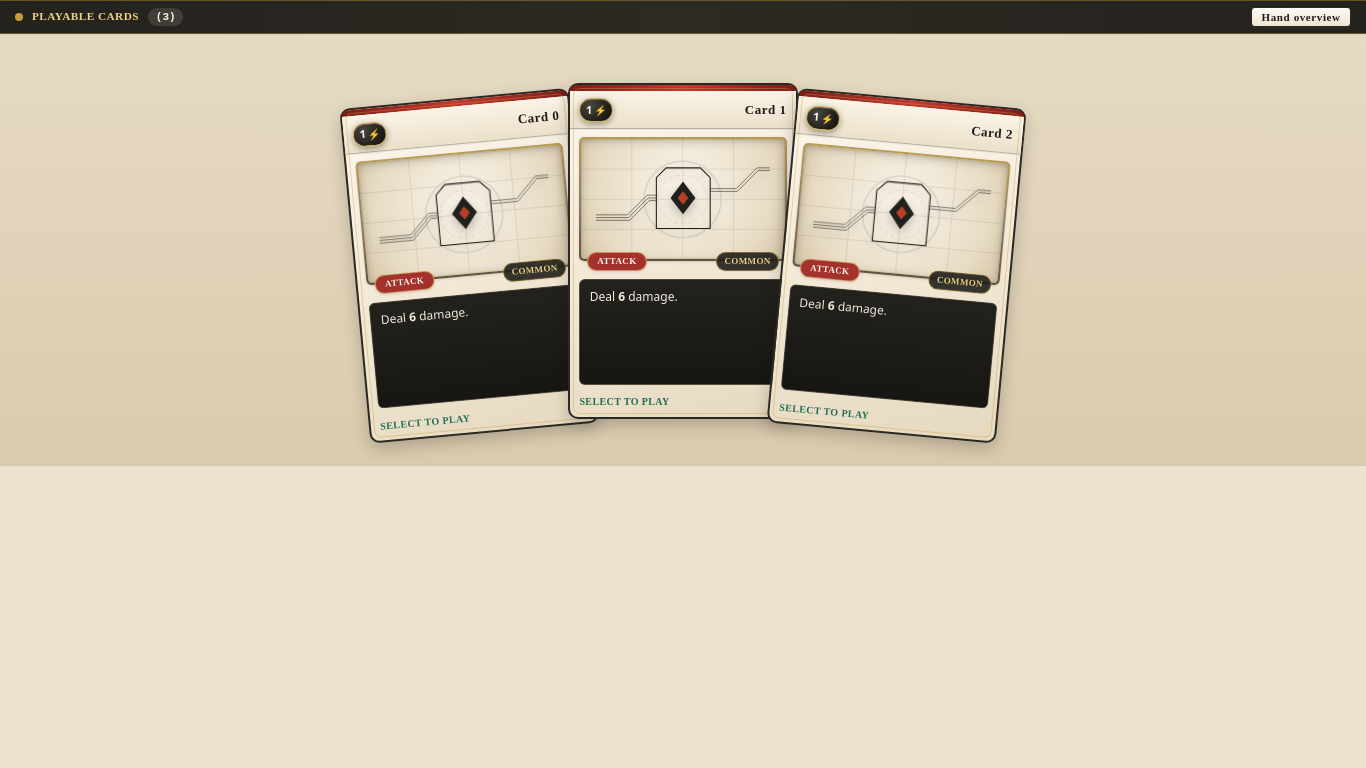
CardHandView regression › opens and closes the hand overview
Click the button "Hand overview" at (1301, 17), box [1251,7,1351,27]
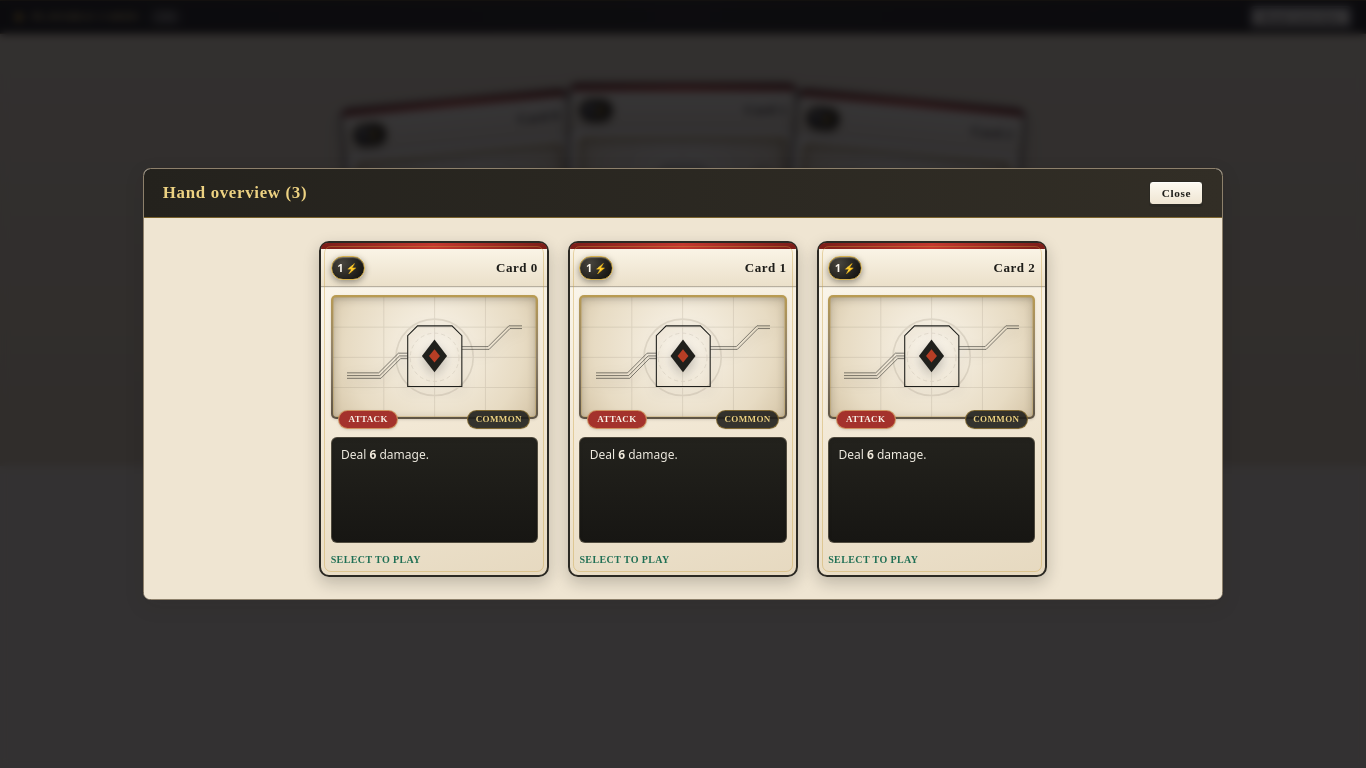
Now the text "Card 1" is shown, box [745,260,787,277]
Click the button "Close" at (1176, 193), box [1149,181,1203,205]
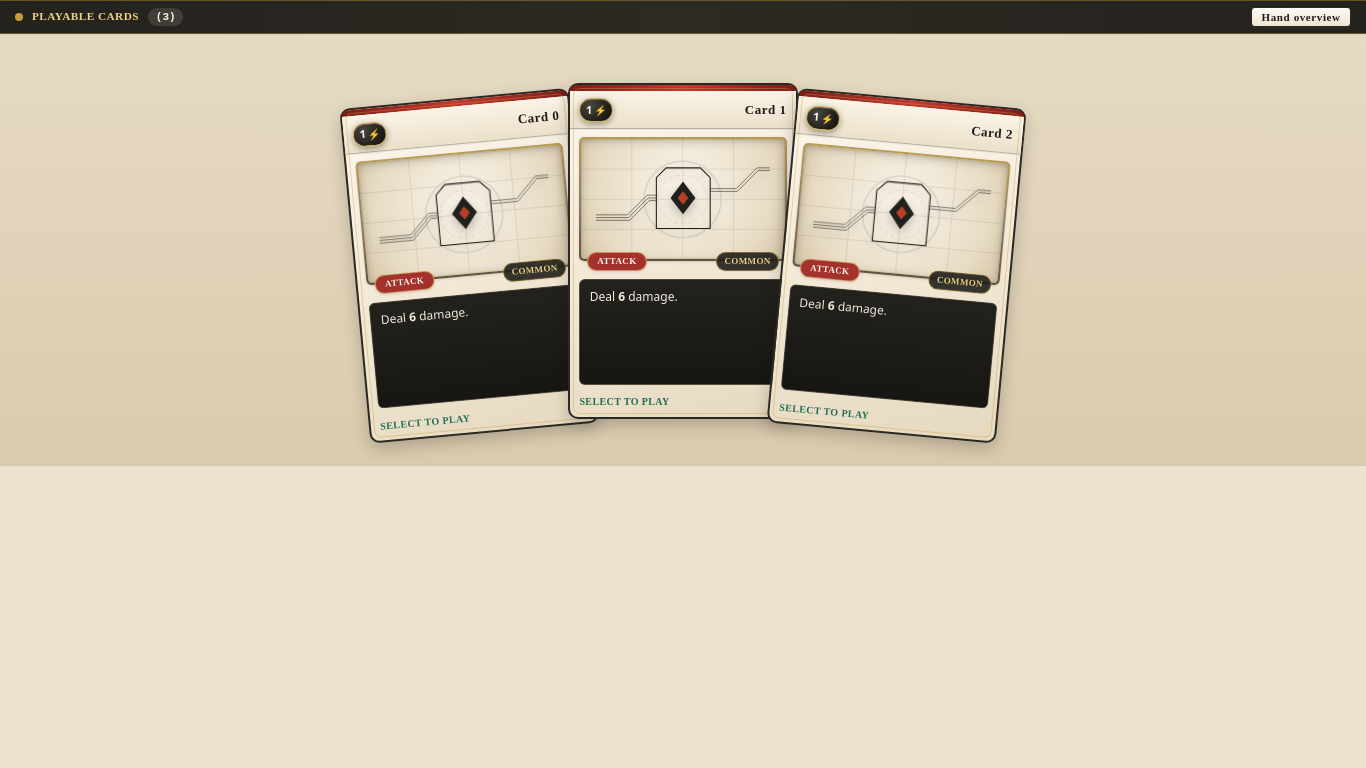
Now the dialog is gone
